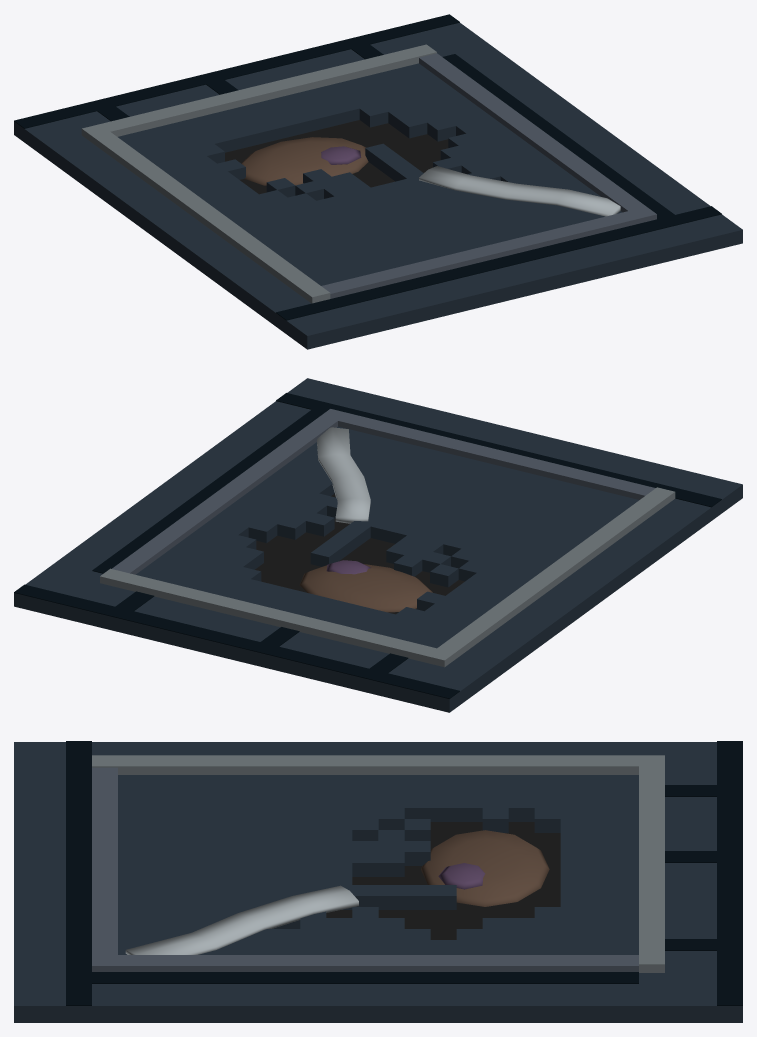
The model's file is newshc-1-f2.glb.
The picture shows the model from 3 angles, top to bottom: view 1: azimuth 30°, elevation 25°; view 2: azimuth 150°, elevation 25°; view 3: azimuth 270°, elevation 25°; orthographic projection. The views are drawn at different scales.
Visible parts, largest first — view 1: newshc-1-f2; view 2: newshc-1-f2; view 3: newshc-1-f2.
Part boxes in pixels (x1,y1,x2,y2): newshc-1-f2: [14, 14, 742, 349]; newshc-1-f2: [14, 378, 742, 712]; newshc-1-f2: [14, 741, 742, 1022].
Size of the model in its own units: 2 by 0.09 by 2.33.
